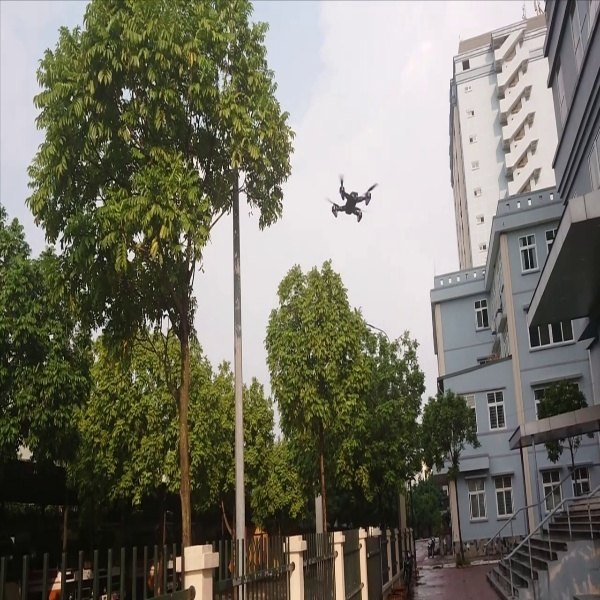drone: (311, 166, 383, 229)
